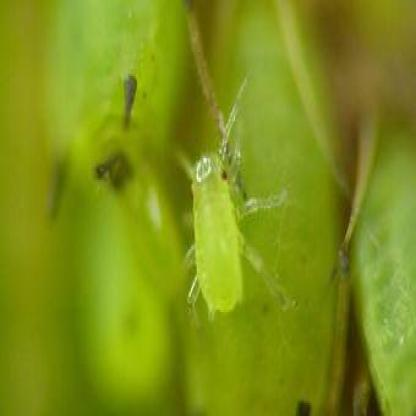aphid: (174, 85, 271, 324)
